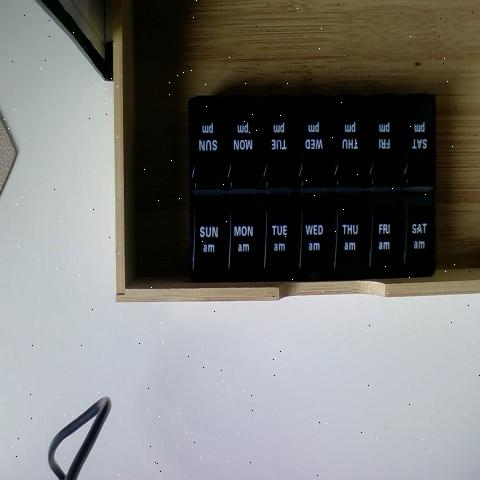FRI-am: (370, 185, 403, 272)
FRI-pm: (368, 85, 402, 181)
MON-am: (228, 189, 264, 281)
MON-pm: (228, 91, 266, 190)
SAT-am: (404, 190, 440, 276)
SAT-pm: (402, 91, 440, 184)
SUN-am: (194, 193, 228, 276)
SUN-pm: (193, 98, 228, 182)
THU-am: (334, 186, 373, 276)
THU-pm: (336, 89, 376, 183)
TUE-am: (266, 193, 303, 278)
TUE-pm: (268, 92, 304, 193)
WED-am: (300, 192, 334, 280)
WED-pm: (302, 92, 337, 190)
